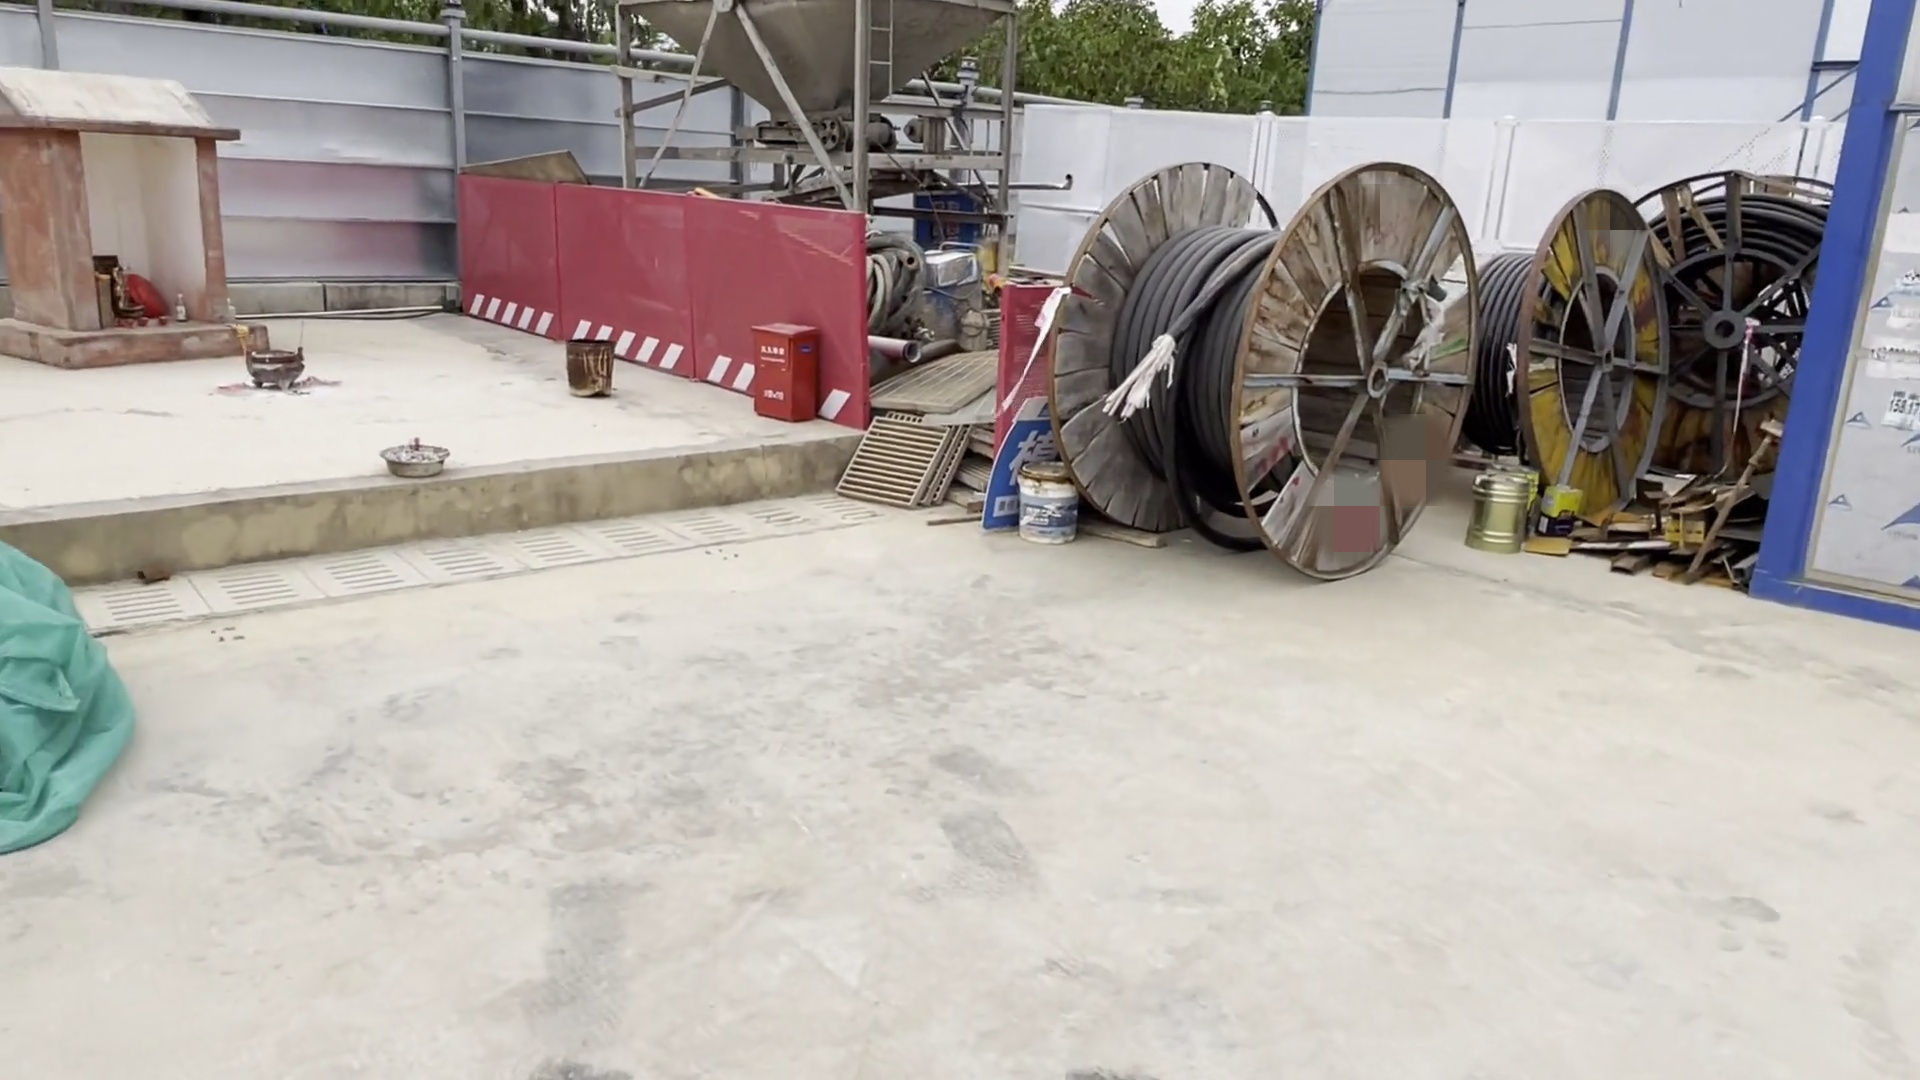fence: (458, 167, 869, 419)
